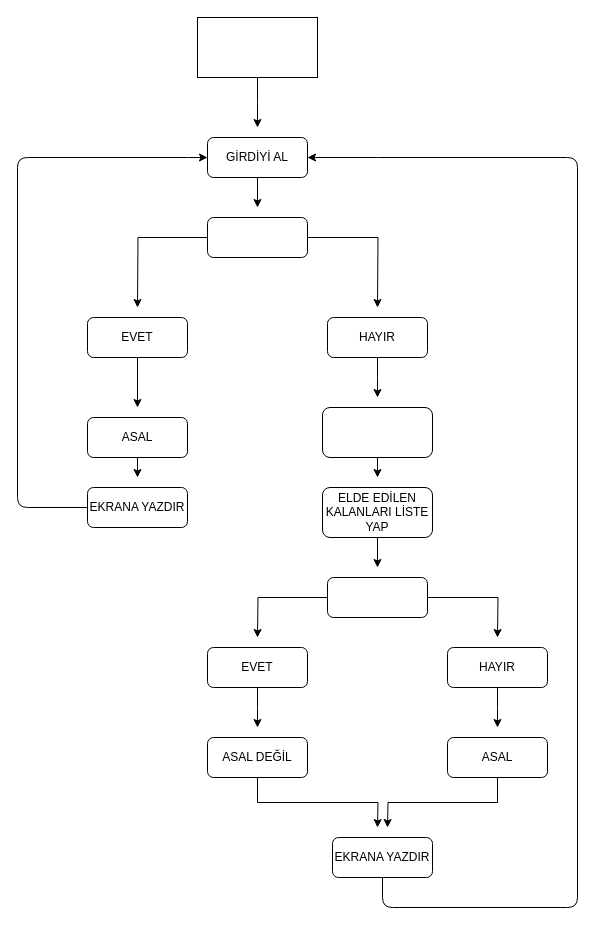
Image size: 596x926. Some labels were removed from this diagram. The shapes that lost their labels are listed below. From the top down, each one's box as (x1, y1, x2, y2) in pixels, then its label:
(196, 16, 318, 78): ASAL SAYI TESTER
(206, 216, 308, 258): GİRDİ TEST LİSTESİNDE Mİ ?
(322, 406, 432, 458): GİRDİYİ TEST LİSTESİNDEKİ SAYILARA BÖL
(326, 576, 428, 618): BU LİSTEDE 0 VAR MI ?
